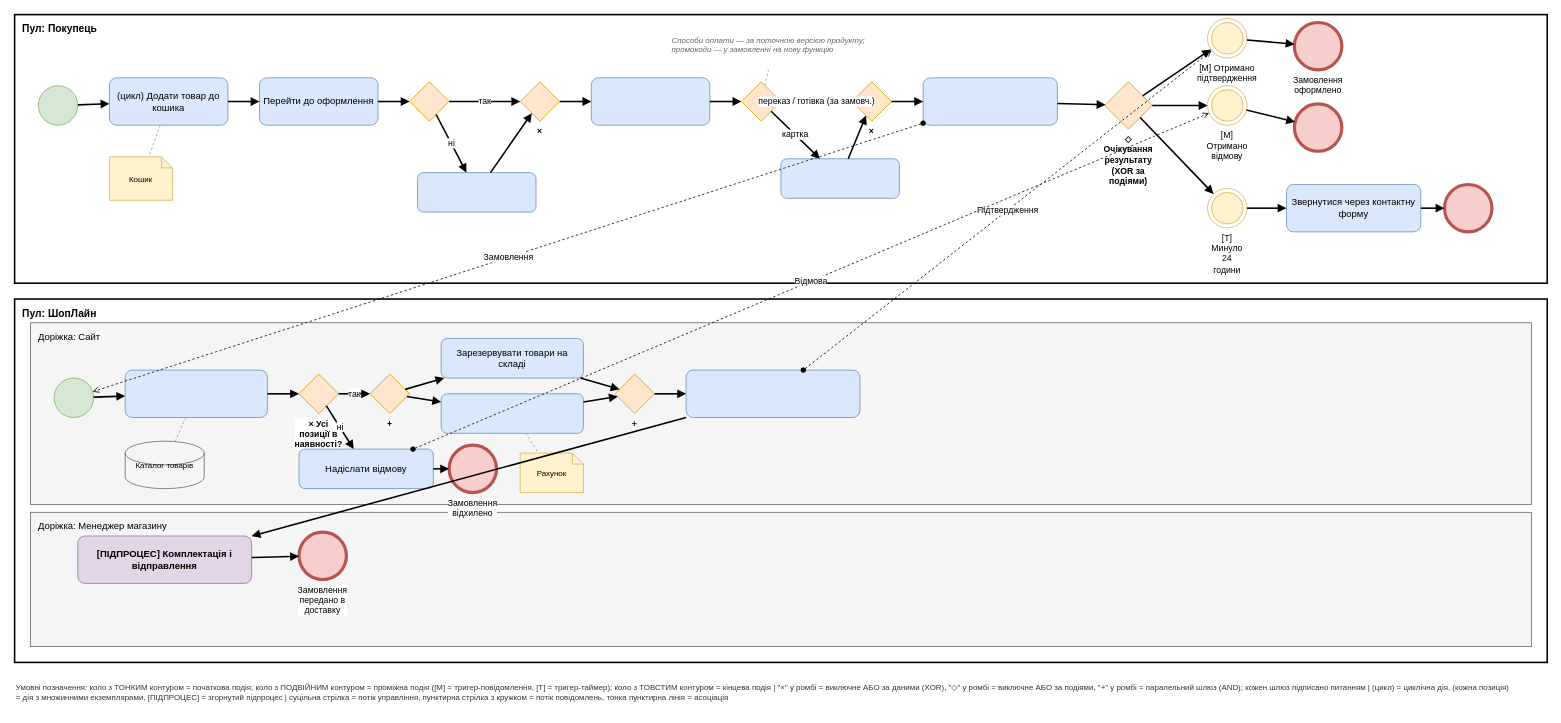
This 1561x723 diagram has some shape labels left out. Each missing label, with the centre of its shape:
"(кожна позиція) Перевірити наявність позиції" belongs at (195,393).
"[M] Надіслати підтвердження з номером" belongs at (772,393).
"[M] Отримано замовлення" belongs at (73,397).
"[M] Підтвердити замовлення" belongs at (989,101).
"× Спосіб оплати?" belongs at (761,101).
"× Увійшов у кабінет?" belongs at (429,101).
"Ввести дані картки" belongs at (839,178).
"Виникла потреба в товарі" belongs at (58,105).
"Вказати адресу доставки" belongs at (650,101).
"Замовлення не прийнято" belongs at (1317,127).
"Очікує відповіді" belongs at (1468,207).
"Сформувати рахунок" belongs at (511,413).
"Увійти або зареєструватися" belongs at (476,192).
